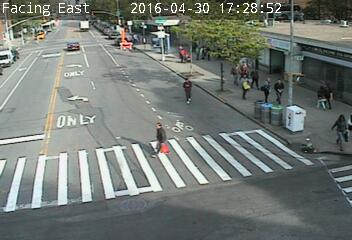neg: (22, 46, 58, 93), (237, 135, 264, 171), (320, 176, 342, 205), (64, 182, 85, 210), (35, 124, 55, 151), (104, 148, 122, 171), (193, 158, 210, 181), (311, 24, 328, 46), (113, 68, 129, 90), (284, 163, 300, 185), (66, 62, 82, 83), (226, 96, 242, 117), (212, 76, 227, 95), (282, 112, 296, 132), (15, 94, 29, 113), (136, 66, 150, 84), (122, 36, 135, 54), (67, 107, 80, 125), (106, 122, 119, 139), (91, 96, 104, 112), (314, 51, 326, 66), (286, 24, 297, 39), (174, 193, 183, 205), (74, 33, 83, 44), (213, 37, 219, 45)
pos: (141, 117, 176, 163), (171, 73, 201, 113), (325, 108, 351, 151), (310, 83, 333, 114), (255, 77, 278, 108), (266, 76, 288, 106), (233, 80, 255, 109), (243, 66, 265, 95), (320, 79, 342, 107), (221, 61, 242, 89), (236, 63, 254, 88), (176, 47, 188, 63)
